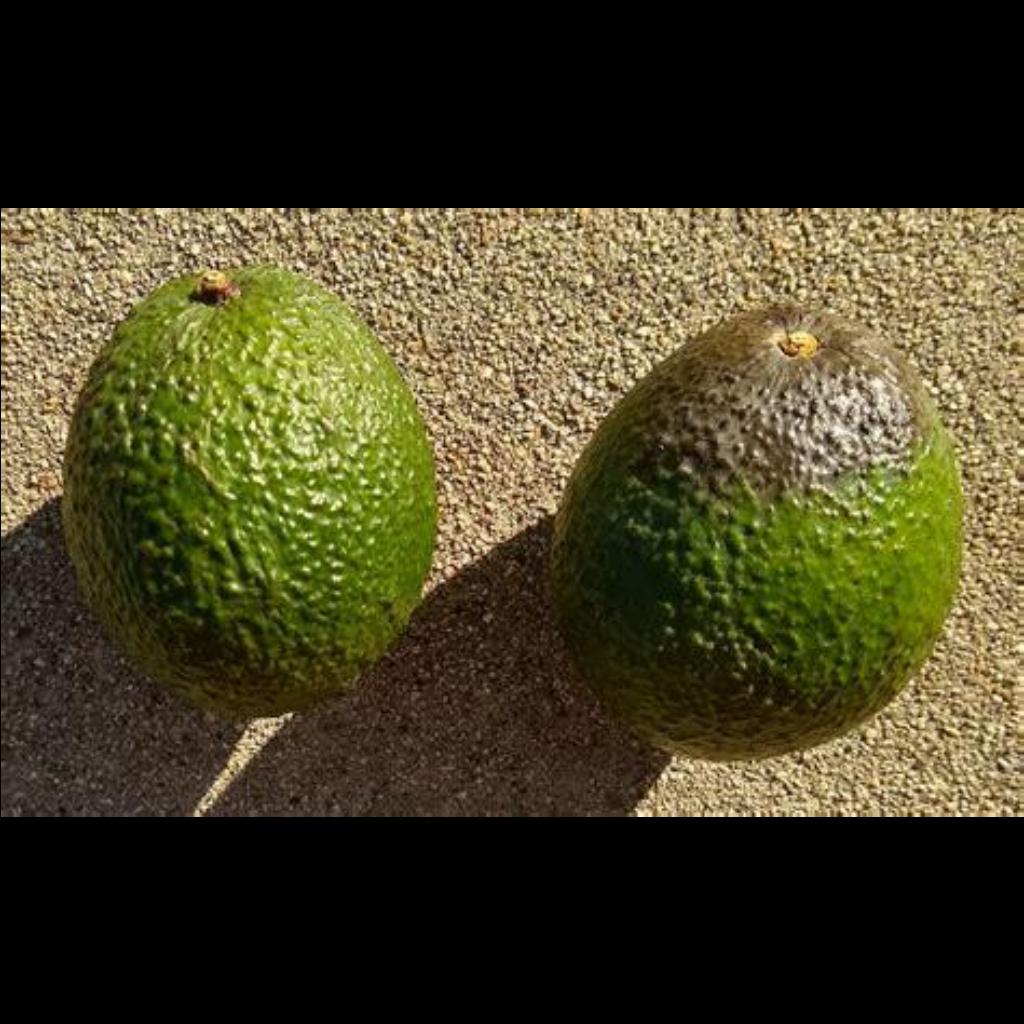antracnosis_fruto: (557, 309, 957, 573)
